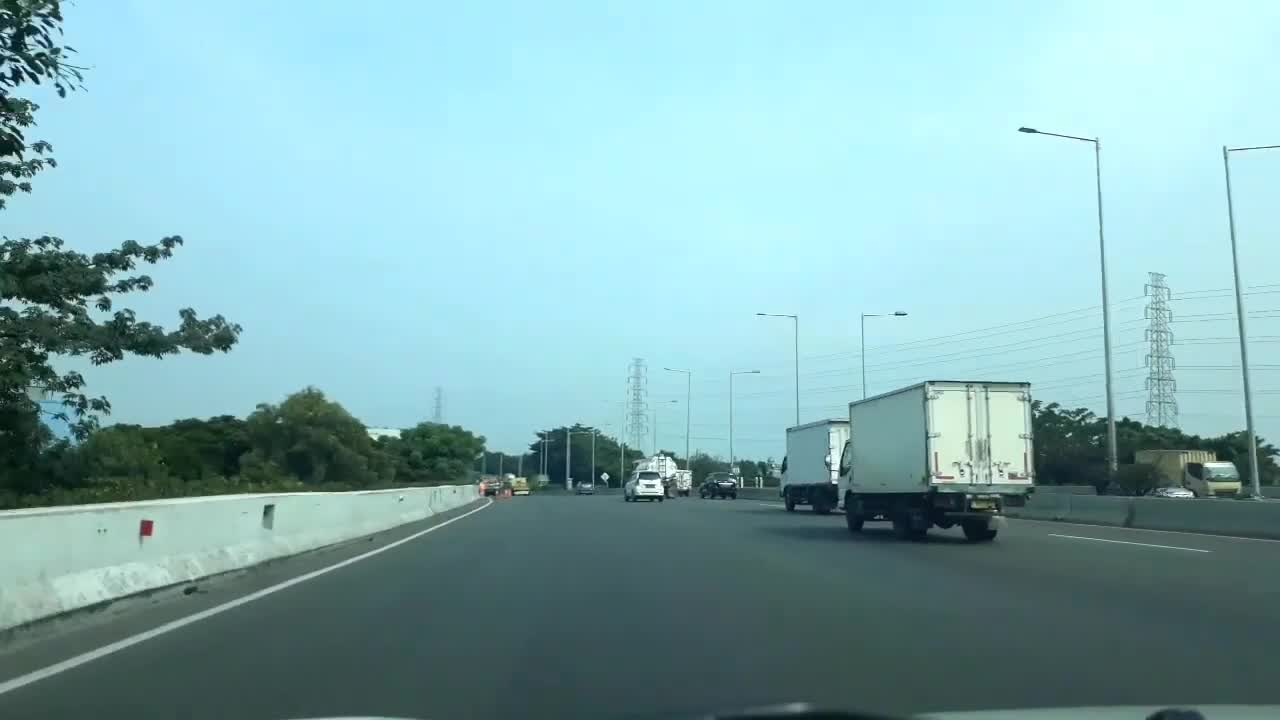plate_positive: (970, 499, 997, 509), (645, 485, 655, 488)
